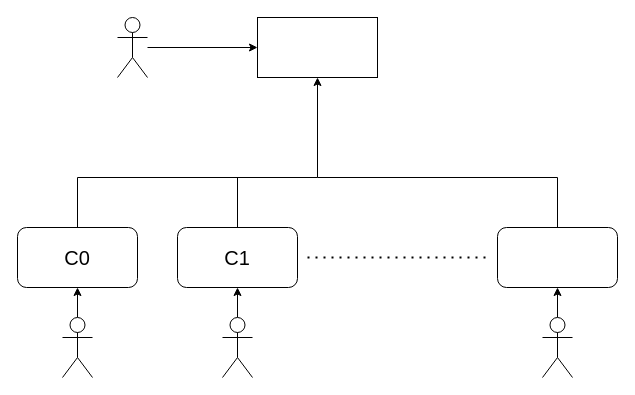
This 635x395 diagram has some shape labels left out. Here are the shapes that lost their labels. From the top down, the centre of each, then its label:
At point 317,47: "CC".
At point 557,257: "C9".
